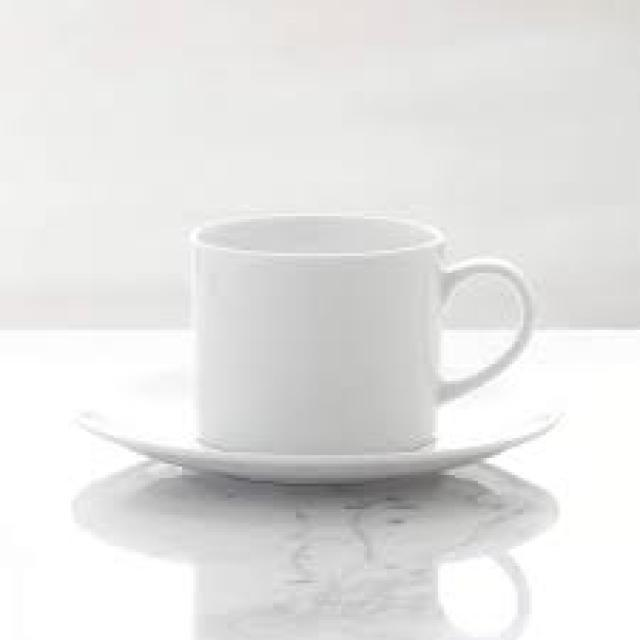taza: (177, 200, 538, 467)
